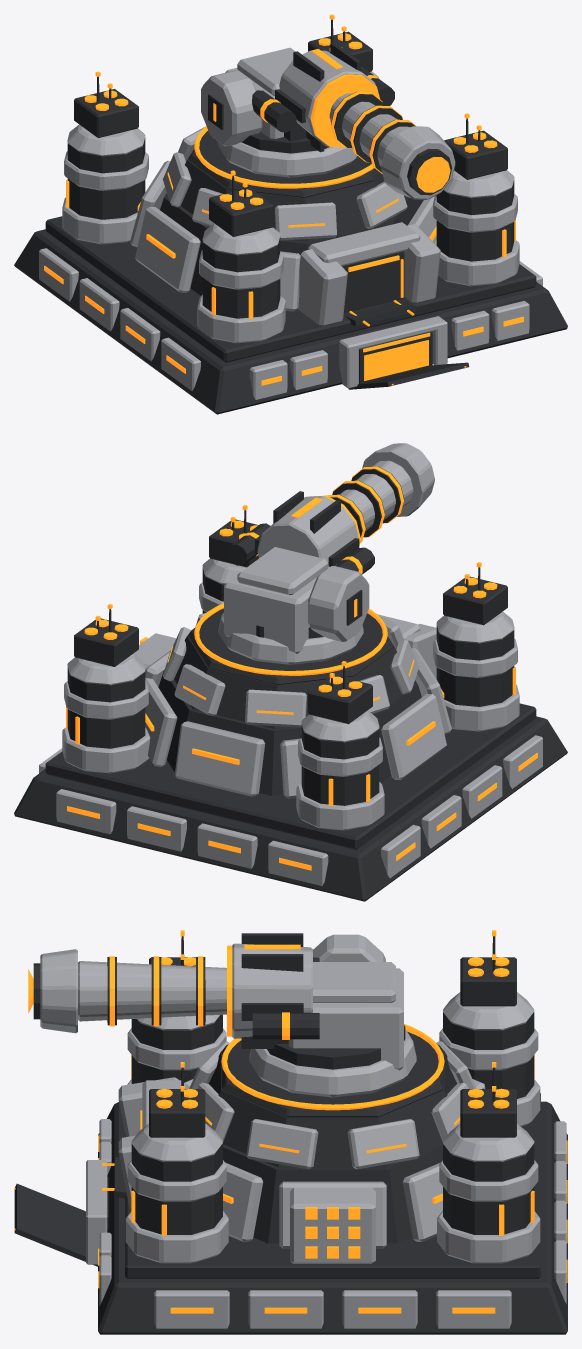
The model's file is sb_bunker_t2.glb.
The picture shows the model from 3 angles, top to bottom: view 1: azimuth 30°, elevation 25°; view 2: azimuth 150°, elevation 25°; view 3: azimuth 270°, elevation 25°; orthographic projection. The views are drawn at different scales.
Parts seen in each view (by area): view 1: SM_BK2V_TOWERS, SM_BK2V_SUB_BASE, SM_BK2V_PLINTH, SM_BK2V_TOWERS_CORE, SM_BK2V_SUB_PLATES, SM_BK2V_DOOR_BUTTRESS, SM_BK2V_PODS, SM_BK2V_LASER, SM_BK2V_PLATES_LOW, SM_BK2V_PLATES_UP, SM_BK2V_TURRET_BODY, SM_BK2V_LASER_DARK (+13 smaller); view 2: SM_BK2V_TOWERS, SM_BK2V_SUB_BASE, SM_BK2V_PLINTH, SM_BK2V_SUB_PLATES, SM_BK2V_PLATES_LOW, SM_BK2V_TOWERS_CORE, SM_BK2V_TURRET_BODY, SM_BK2V_LASER, SM_BK2V_PODS, SM_BK2V_PLATES_UP, SM_BK2V_CORE_LOW, SM_BK2V_DECK (+10 smaller); view 3: SM_BK2V_TOWERS, SM_BK2V_SUB_BASE, SM_BK2V_TOWERS_CORE, SM_BK2V_SUB_PLATES, SM_BK2V_LASER, SM_BK2V_TURRET_BODY, SM_BK2V_PLINTH, SM_BK2V_PLATES_UP, SM_BK2V_PODS, SM_BK2V_PLATES_LOW, SM_BK2V_CORE_UP, SM_BK2V_CORE_LOW (+13 smaller).
Boxes of the visible parts, left/top/right/bottom form: SM_BK2V_TOWERS: left=62, top=71, right=519, bottom=343; SM_BK2V_SUB_BASE: left=14, top=229, right=567, bottom=414; SM_BK2V_PLINTH: left=45, top=216, right=536, bottom=362; SM_BK2V_TOWERS_CORE: left=67, top=137, right=514, bottom=318; SM_BK2V_SUB_PLATES: left=39, top=248, right=542, bottom=399; SM_BK2V_DOOR_BUTTRESS: left=297, top=222, right=440, bottom=325; SM_BK2V_PODS: left=74, top=31, right=507, bottom=236; SM_BK2V_LASER: left=279, top=50, right=455, bottom=199; SM_BK2V_PLATES_LOW: left=130, top=160, right=436, bottom=311; SM_BK2V_PLATES_UP: left=162, top=127, right=407, bottom=240; SM_BK2V_TURRET_BODY: left=218, top=47, right=357, bottom=177; SM_BK2V_LASER_DARK: left=275, top=42, right=451, bottom=195; SM_BK2V_TOWERS: left=62, top=558, right=519, bottom=830; SM_BK2V_SUB_BASE: left=14, top=716, right=567, bottom=901; SM_BK2V_PLINTH: left=45, top=703, right=536, bottom=849; SM_BK2V_SUB_PLATES: left=39, top=735, right=542, bottom=885; SM_BK2V_PLATES_LOW: left=145, top=648, right=451, bottom=798; SM_BK2V_TOWERS_CORE: left=67, top=567, right=514, bottom=805; SM_BK2V_TURRET_BODY: left=218, top=547, right=363, bottom=664; SM_BK2V_LASER: left=257, top=443, right=434, bottom=564; SM_BK2V_PODS: left=74, top=519, right=507, bottom=724; SM_BK2V_PLATES_UP: left=163, top=612, right=418, bottom=727; SM_BK2V_CORE_LOW: left=158, top=670, right=421, bottom=795; SM_BK2V_DECK: left=188, top=608, right=393, bottom=684; SM_BK2V_TOWERS: left=125, top=992, right=540, bottom=1263; SM_BK2V_SUB_BASE: left=98, top=1101, right=567, bottom=1334; SM_BK2V_TOWERS_CORE: left=131, top=1012, right=534, bottom=1234; SM_BK2V_SUB_PLATES: left=99, top=1119, right=566, bottom=1328; SM_BK2V_LASER: left=40, top=943, right=312, bottom=1038; SM_BK2V_TURRET_BODY: left=249, top=962, right=416, bottom=1097; SM_BK2V_PLINTH: left=125, top=1093, right=540, bottom=1278; SM_BK2V_PLATES_UP: left=189, top=1031, right=476, bottom=1169; SM_BK2V_PODS: left=149, top=957, right=516, bottom=1137; SM_BK2V_PLATES_LOW: left=184, top=1079, right=485, bottom=1248; SM_BK2V_CORE_UP: left=208, top=1051, right=457, bottom=1167; SM_BK2V_CORE_LOW: left=223, top=1144, right=442, bottom=1243.
Bounding box in the file's own units: 35.02 × 25.37 × 41.27.
